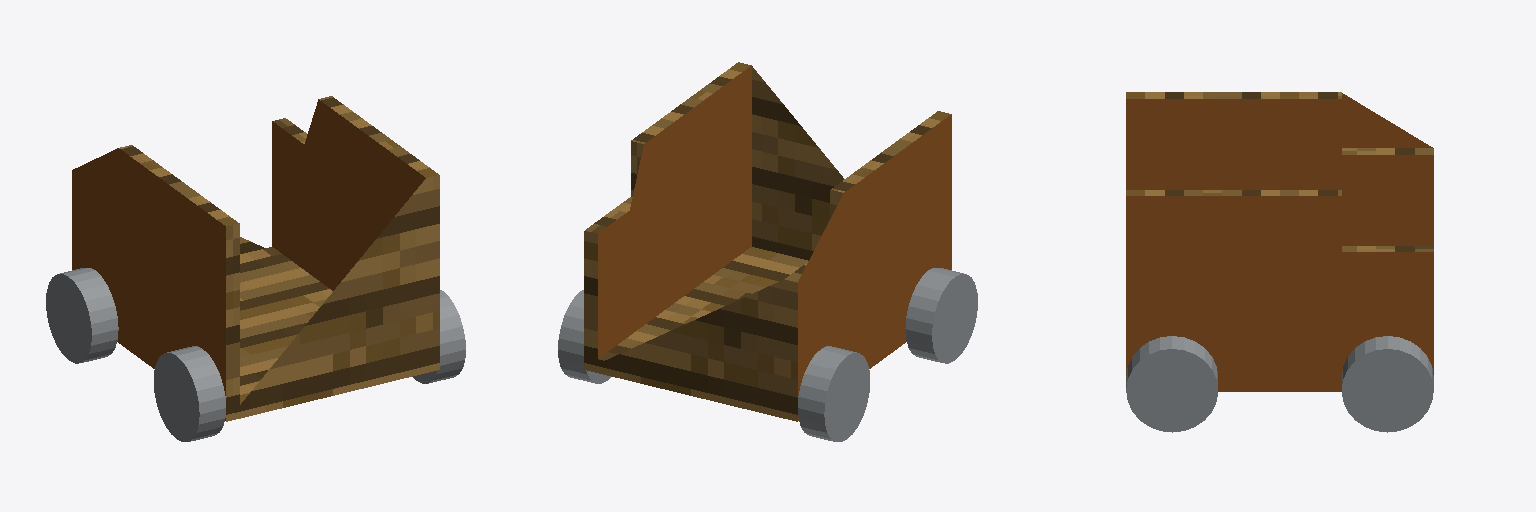
3 views of the same model, side by side, from view 1: azimuth 30°, elevation 25°; view 2: azimuth 150°, elevation 25°; view 3: azimuth 270°, elevation 25° (orthographic).
Parts seen in each view (by area): view 1: Mesh1 Model; view 2: Mesh1 Model; view 3: Mesh1 Model.
Part boxes in pixels (x1,y1,x2,y2): Mesh1 Model: (46,96,465,441); Mesh1 Model: (558,62,977,441); Mesh1 Model: (1126,92,1433,432).
Size of the model in its own units: 1 by 0.8 by 1.
Materials: 3 (1 with a texture image).